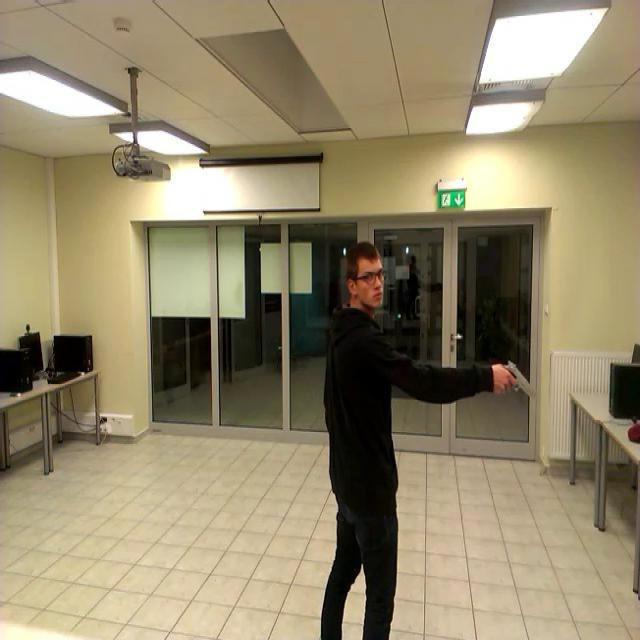weapon: (496, 362, 536, 399)
